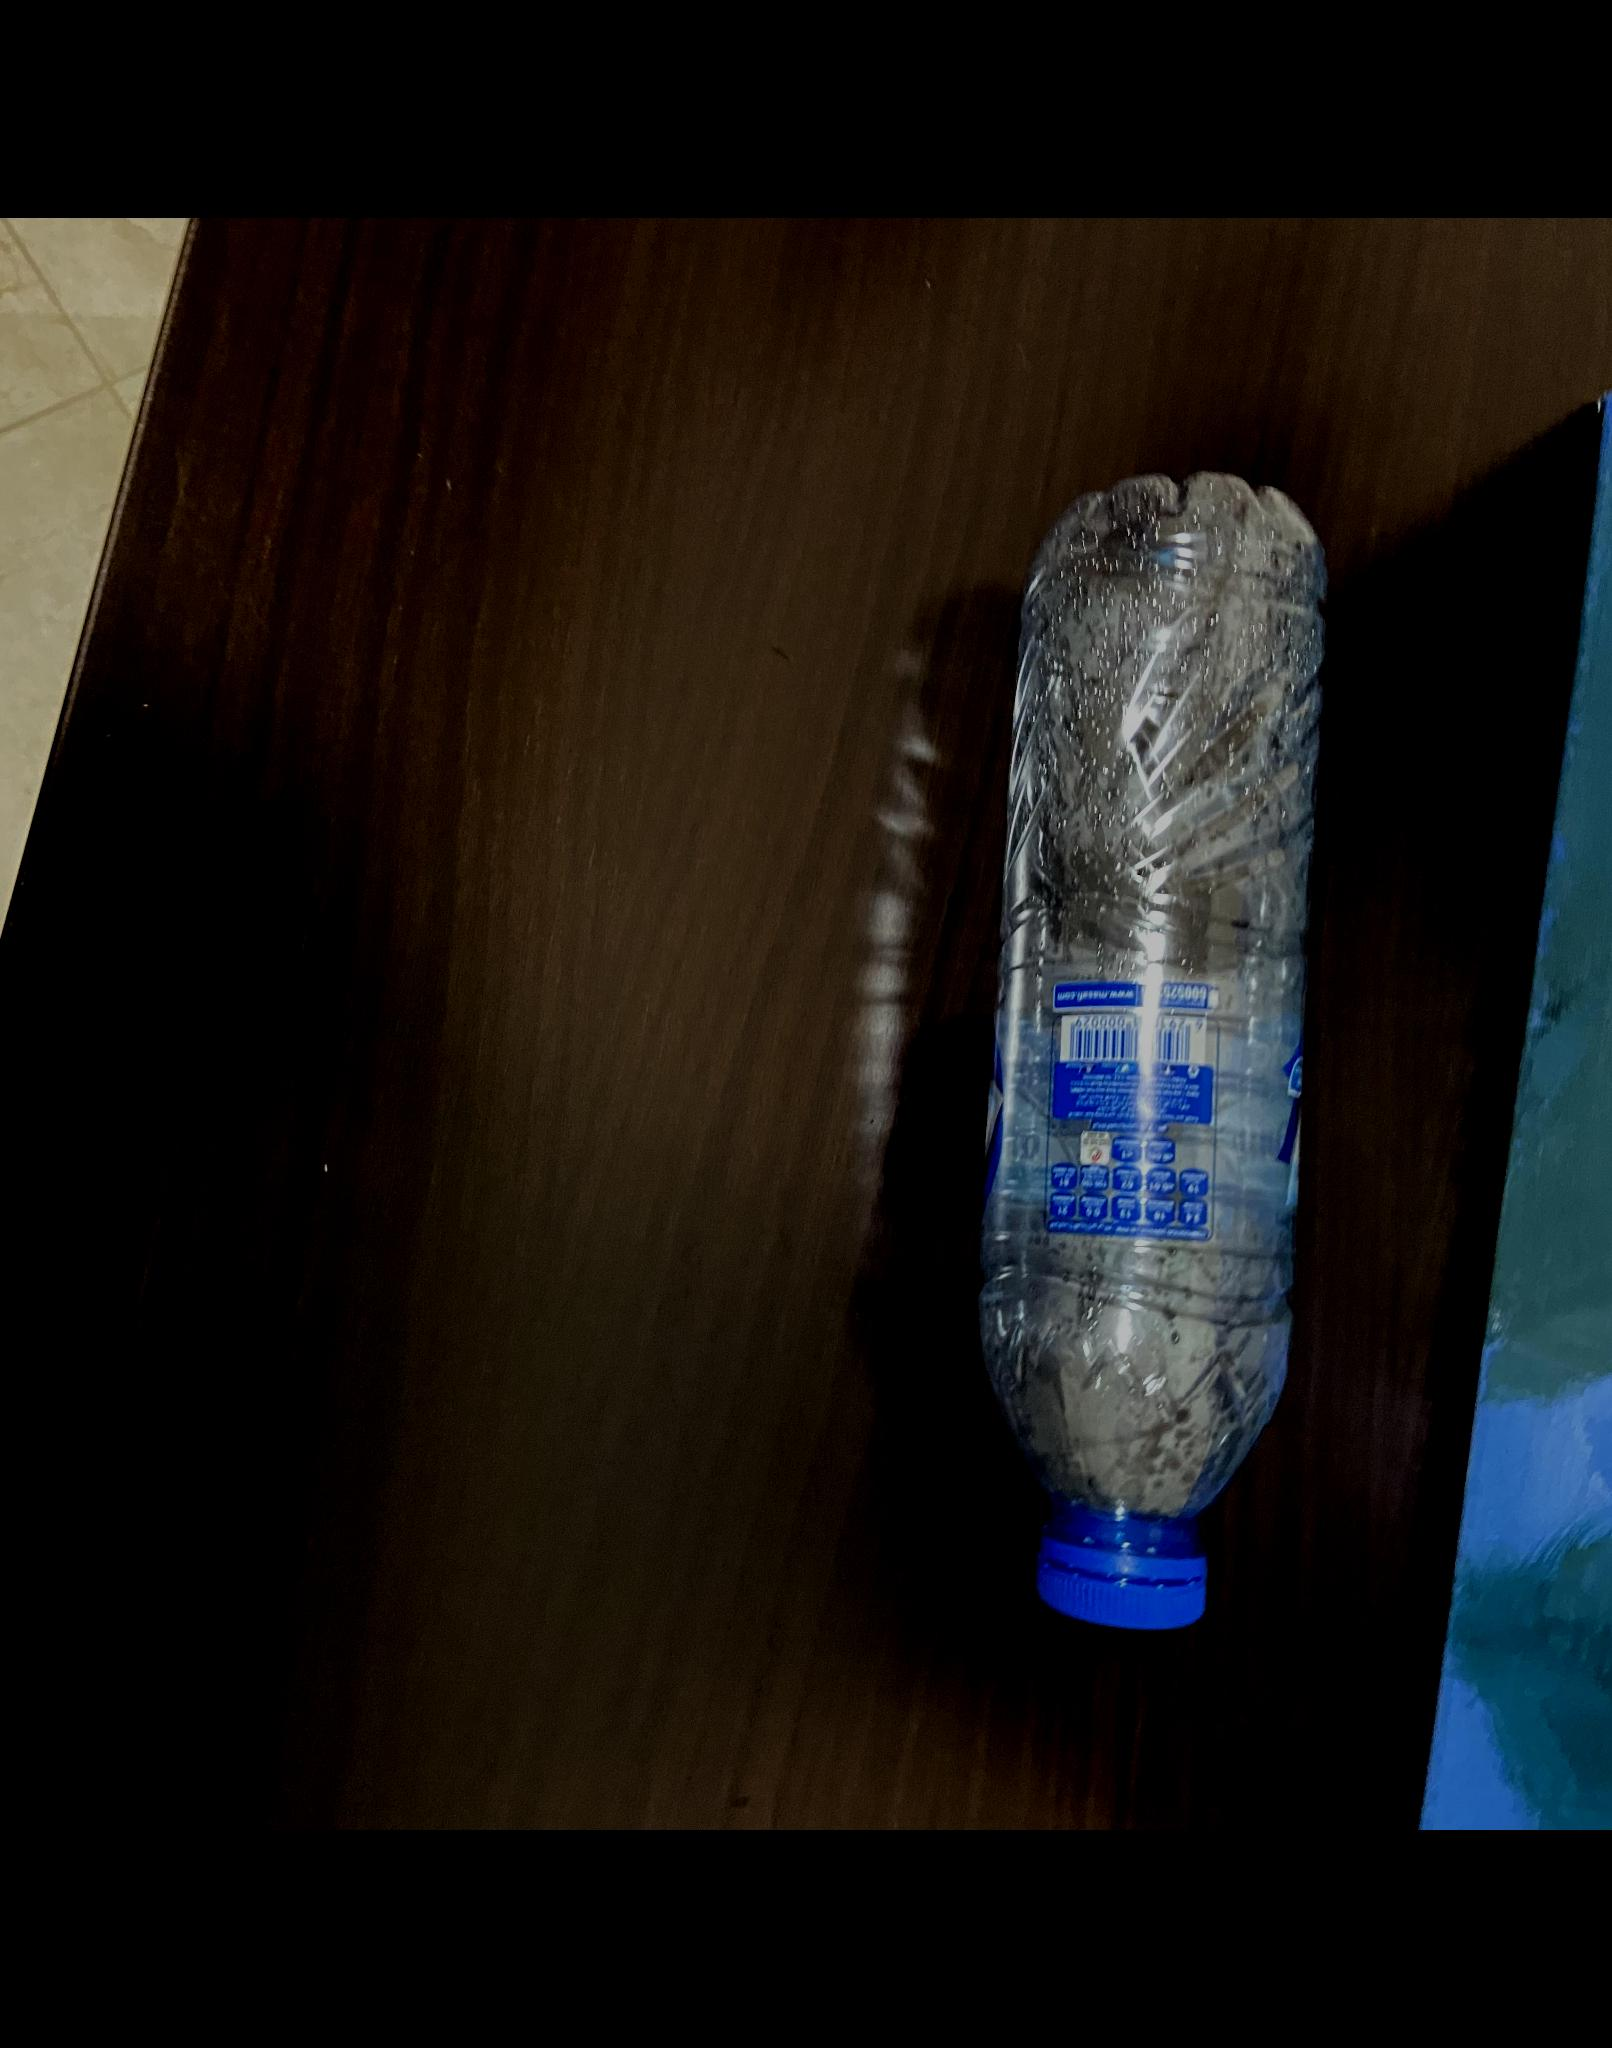bottle: (959, 465, 1348, 1652)
